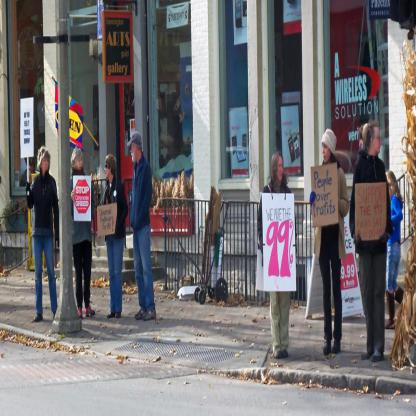face: (372, 126, 383, 153), (276, 157, 284, 181), (323, 140, 330, 163), (42, 155, 50, 173), (76, 154, 83, 172), (105, 162, 111, 180), (131, 143, 136, 163)
